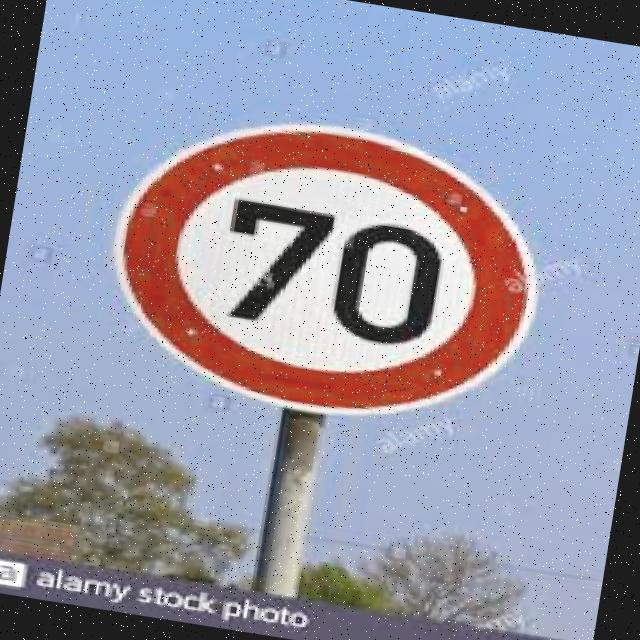Ograniczenie predkosci do 70: (94, 96, 552, 452)
